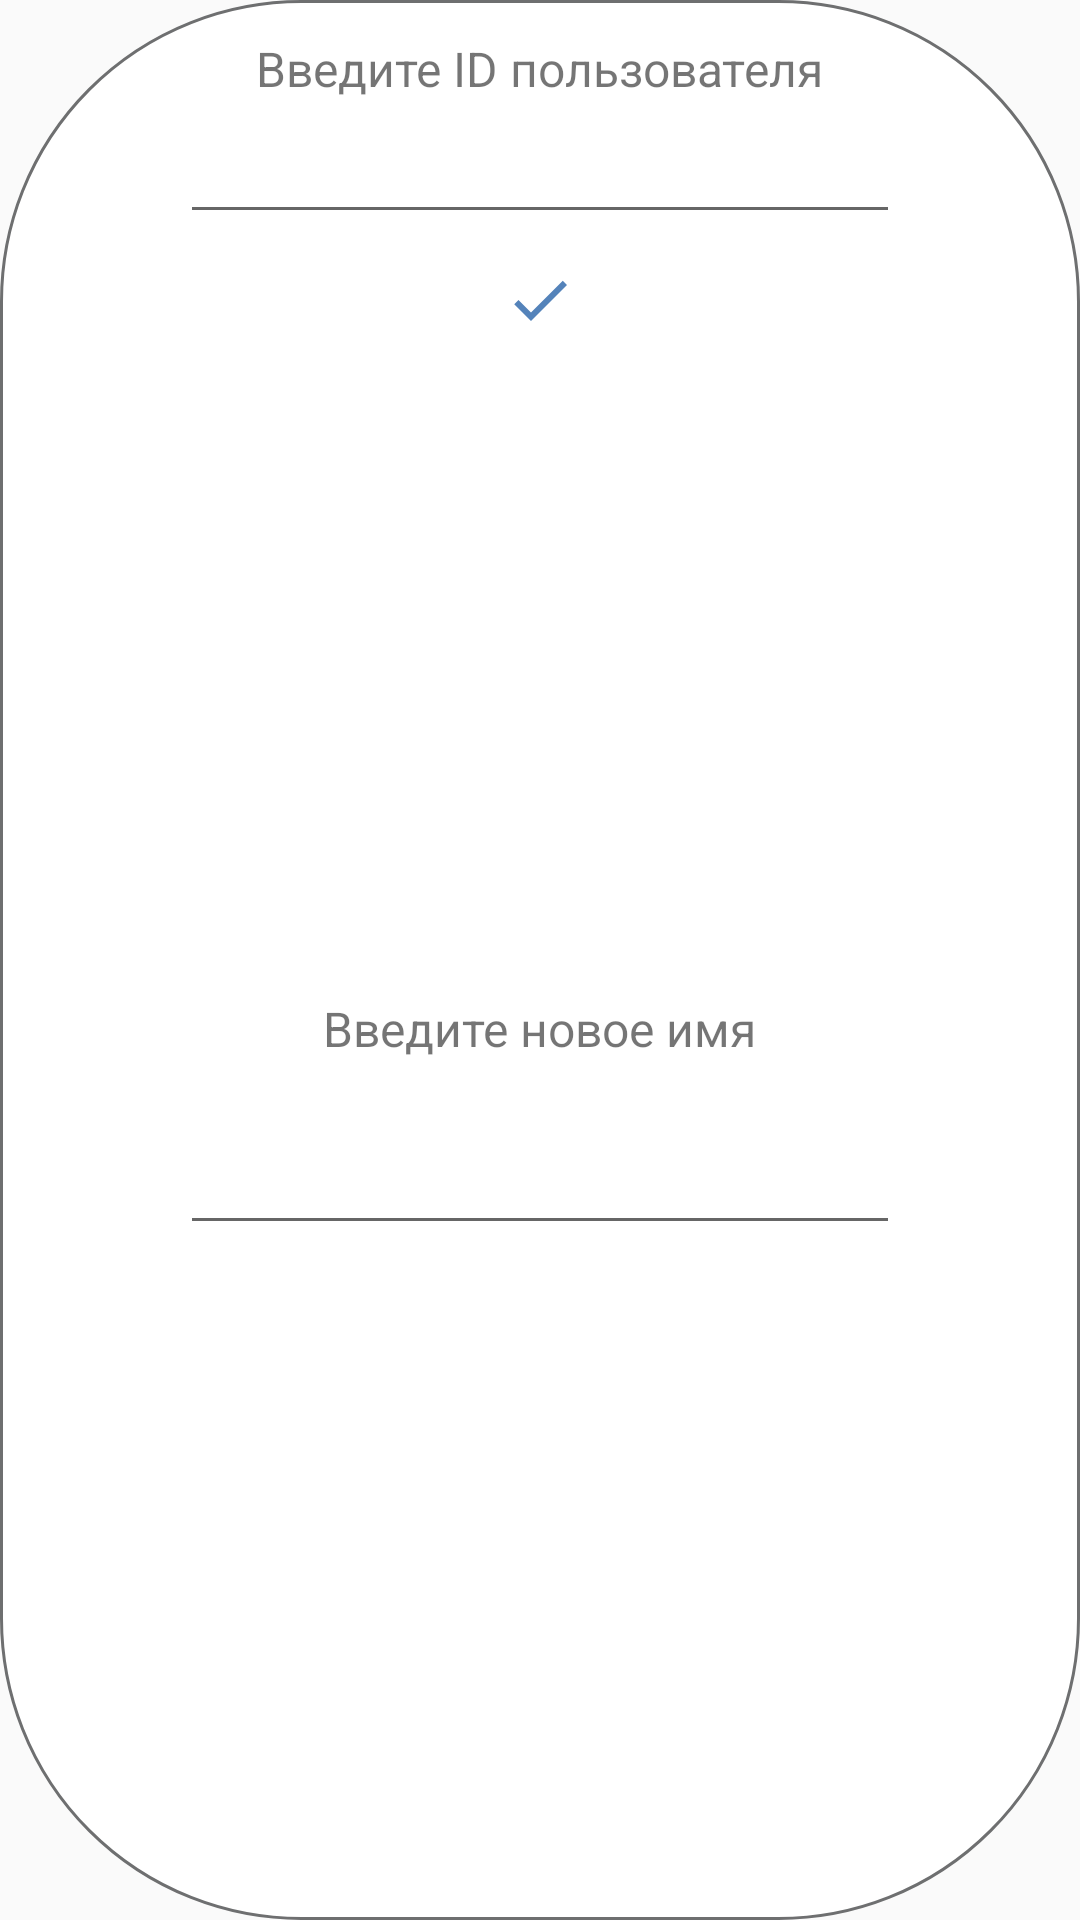

Icons on this 1080 × 1920 Android screen, each with its box as [x1,y1,x2,y2]:
check: [514,281,567,321]
